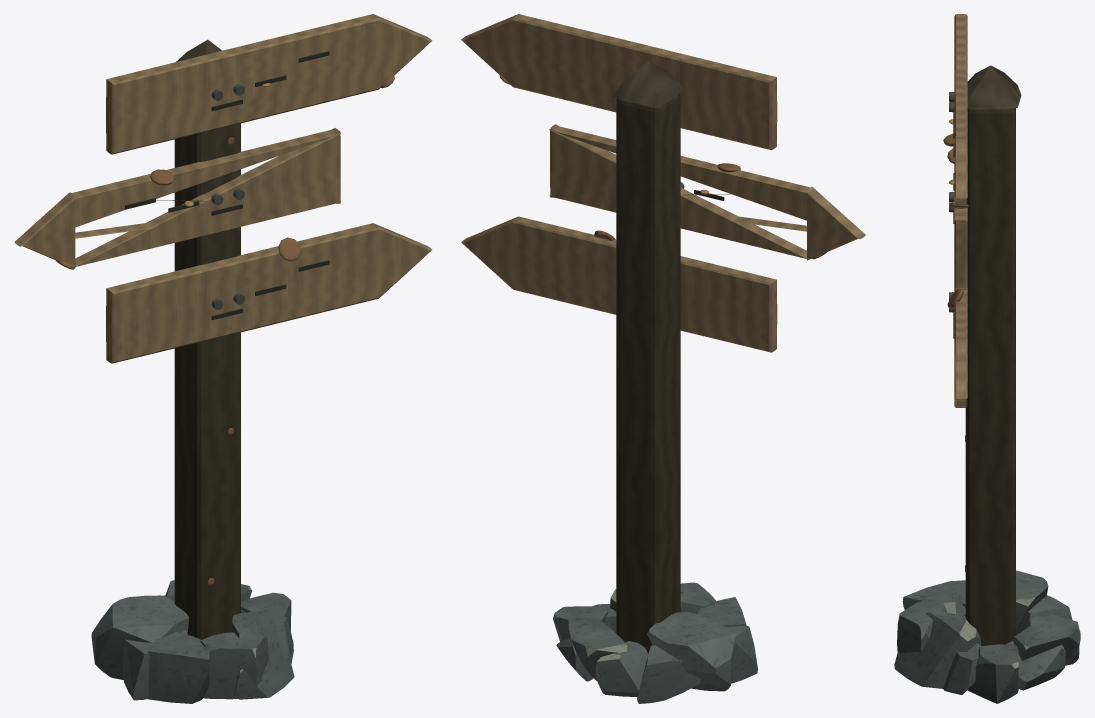
The picture shows the model from 3 angles, left to right: view 1: azimuth 30°, elevation 25°; view 2: azimuth 150°, elevation 25°; view 3: azimuth 270°, elevation 25°; orthographic projection. The views are drawn at different scales.
Parts seen in each view (by area): view 1: cut grain, heartwood, weathered mineral, recess, drawbore peg, forged iron; view 2: cut grain, heartwood, weathered mineral; view 3: heartwood, weathered mineral, cut grain, fresh chipped mineral, drawbore peg.
Boxes of the visible parts, box(x1,y1,x2,y2) form: cut grain: box(14, 14, 432, 363); heartwood: box(174, 39, 240, 639); weathered mineral: box(91, 580, 294, 703); recess: box(125, 51, 329, 320); drawbore peg: box(56, 75, 394, 269); forged iron: box(211, 84, 244, 309); cut grain: box(461, 14, 865, 352); heartwood: box(611, 61, 683, 653); weathered mineral: box(553, 582, 757, 703); heartwood: box(965, 65, 1021, 646); weathered mineral: box(894, 570, 1080, 703); cut grain: box(954, 14, 967, 407); fresh chipped mineral: box(898, 598, 1080, 694); drawbore peg: box(943, 133, 968, 308).
Bounding box in the file's own units: 0.951 × 1.37 × 0.3877.
Materials: 8 (5 with a texture image).
